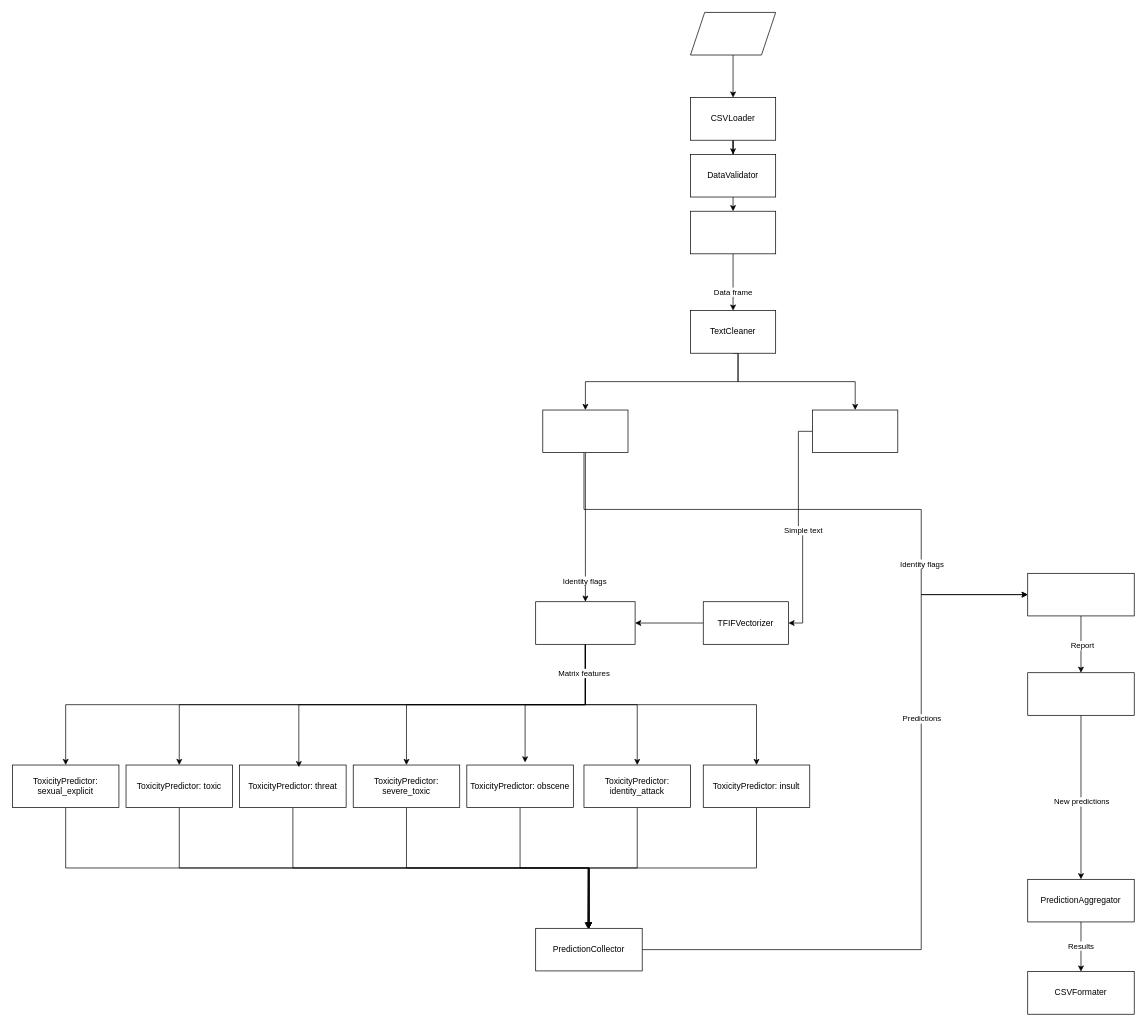
The diagram is 1147 pixels wide and 1027 high, and some of its shapes have lost their labels. The shapes that lost their labels are listed below. From the top down, each one's centre as x and y in pixels, then its label:
At (733,33): "train.csv test.csv".
At (733,232): "ColumnSelector".
At (585,431): "IdentityFlagExtractor".
At (855,431): "Lemmatrizer".
At (1080,594): "IdentityAttackChecker".
At (585,622): "NumericFeatureMerger".
At (1080,693): "AnnotatorWeightCalculator".
